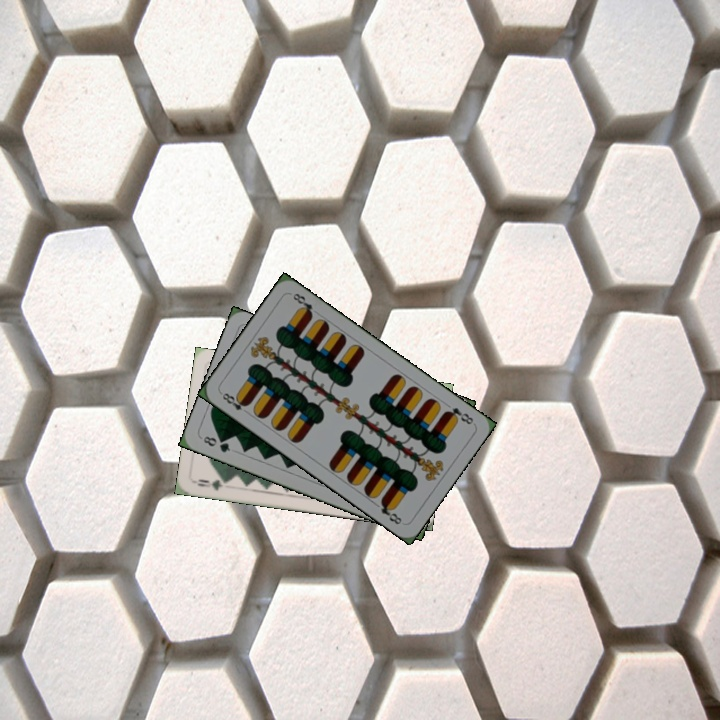E8: (217, 388, 251, 417), (440, 403, 476, 427)
G8: (199, 432, 233, 455)
G9: (193, 475, 231, 493)
